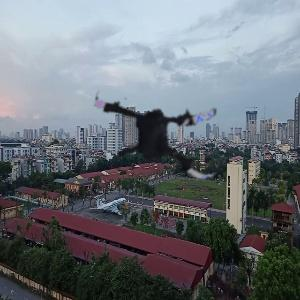drone: (91, 54, 240, 203)
